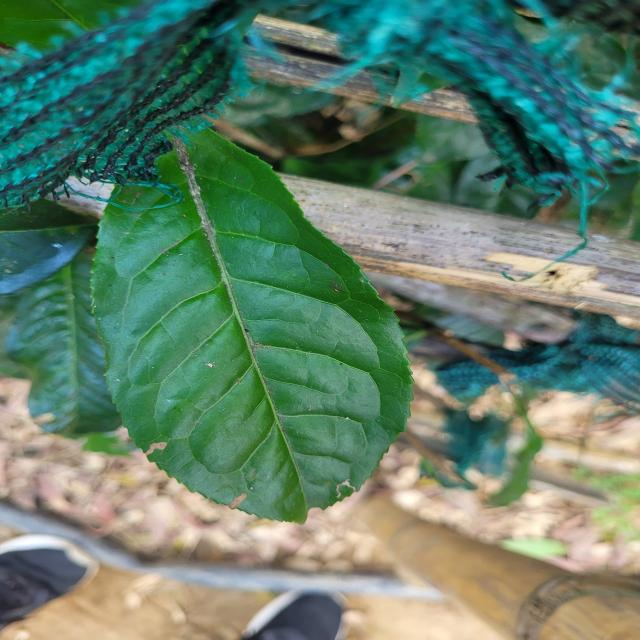Category D 7+ days, Not for Tea: (90, 132, 420, 535)
